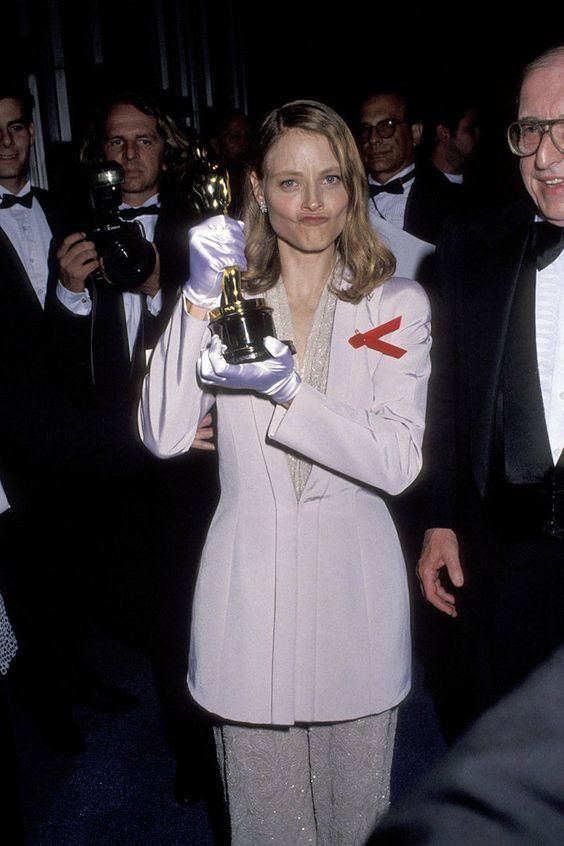hand: (196, 340, 298, 407)
